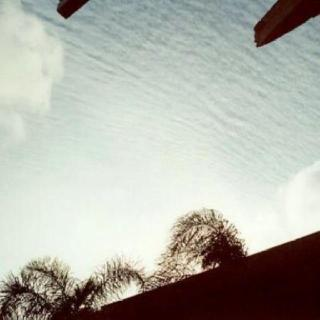Cirrocumulus: (0, 4, 320, 236)
